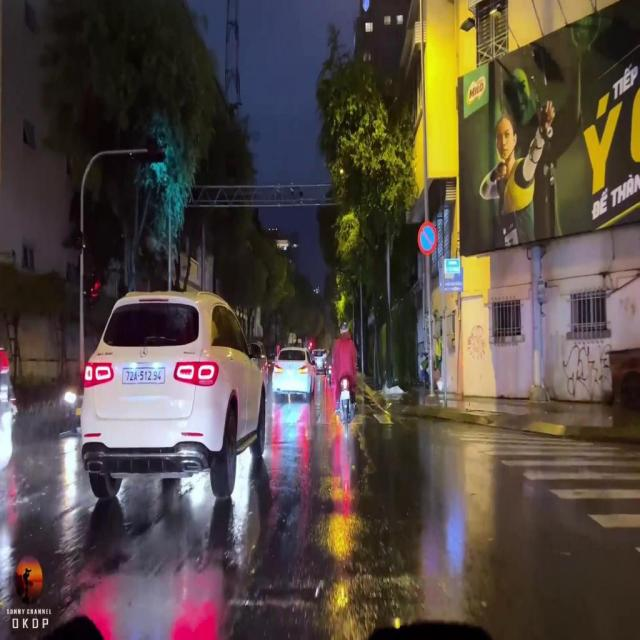cam_do_xe: (418, 221, 438, 256)
